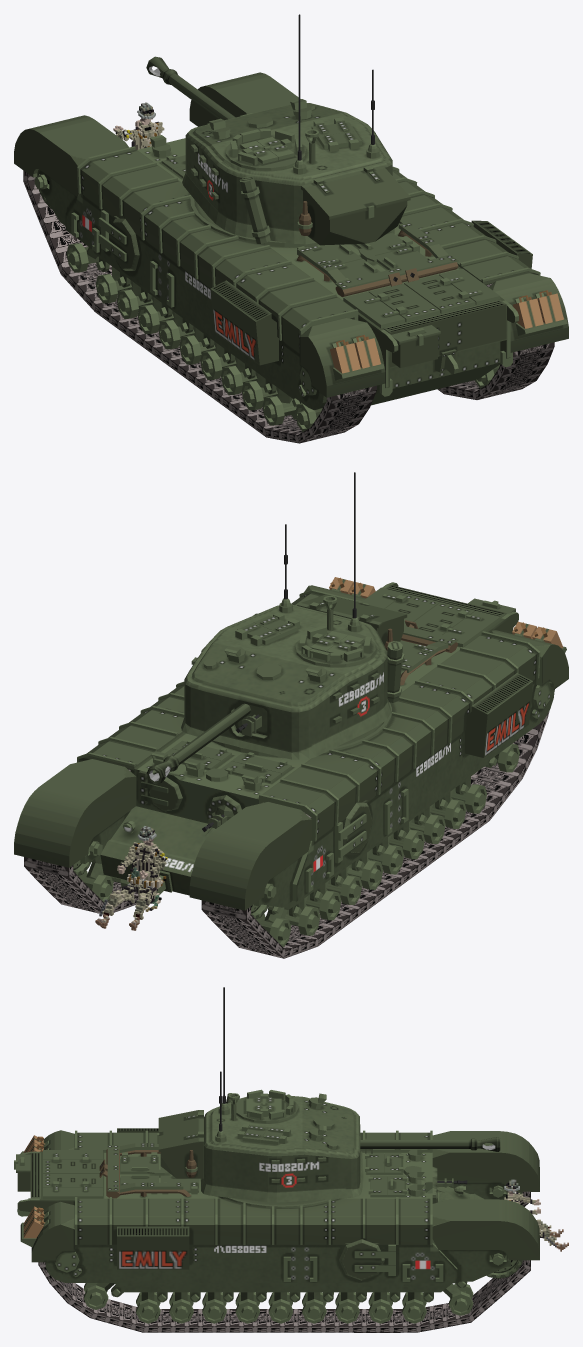
The model's file is churchill_mkvii.glb.
The picture shows the model from 3 angles, top to bottom: view 1: azimuth 30°, elevation 25°; view 2: azimuth 150°, elevation 25°; view 3: azimuth 270°, elevation 25°; orthographic projection. The views are drawn at different scales.
Visible parts, largest first — view 1: 00_chassis_churchill_mkvii_chassis.mesh, 02_turret_churchill_mkvii_turret.mesh, 06_track_churchill_mkvii_track.mesh, 05_track_churchill_mkvii_track.mesh, weapon_turret_0_churchill_mkvii_cannon.mesh, crew_soldier_SLOT_02_GUNNER; view 2: 00_chassis_churchill_mkvii_chassis.mesh, 02_turret_churchill_mkvii_turret.mesh, 06_track_churchill_mkvii_track.mesh, crew_soldier_SLOT_02_GUNNER, 05_track_churchill_mkvii_track.mesh, weapon_turret_0_churchill_mkvii_cannon.mesh; view 3: 00_chassis_churchill_mkvii_chassis.mesh, 02_turret_churchill_mkvii_turret.mesh, 05_track_churchill_mkvii_track.mesh, weapon_turret_0_churchill_mkvii_cannon.mesh, crew_soldier_SLOT_02_GUNNER.
Boxes of the visible parts, x1,y1,x2,y2 form: 00_chassis_churchill_mkvii_chassis.mesh: (14,72,568,417); 02_turret_churchill_mkvii_turret.mesh: (182,14,410,245); 06_track_churchill_mkvii_track.mesh: (23,170,376,443); 05_track_churchill_mkvii_track.mesh: (437,283,554,399); weapon_turret_0_churchill_mkvii_cannon.mesh: (146,56,235,120); crew_soldier_SLOT_02_GUNNER: (113,102,164,149); 00_chassis_churchill_mkvii_chassis.mesh: (14,577,568,933); 02_turret_churchill_mkvii_turret.mesh: (181,472,407,759); 06_track_churchill_mkvii_track.mesh: (201,689,554,958); crew_soldier_SLOT_02_GUNNER: (95,826,167,930); 05_track_churchill_mkvii_track.mesh: (24,769,139,914); weapon_turret_0_churchill_mkvii_cannon.mesh: (147,703,250,783); 00_chassis_churchill_mkvii_chassis.mesh: (14,1128,539,1302); 02_turret_churchill_mkvii_turret.mesh: (157,987,372,1202); 05_track_churchill_mkvii_track.mesh: (38,1255,530,1332); weapon_turret_0_churchill_mkvii_cannon.mesh: (360,1137,500,1151); crew_soldier_SLOT_02_GUNNER: (504,1179,568,1251).
Bounding box in the file's own units: 4.56 × 5.74 × 9.9.
Materials: 39 (3 with a texture image).
